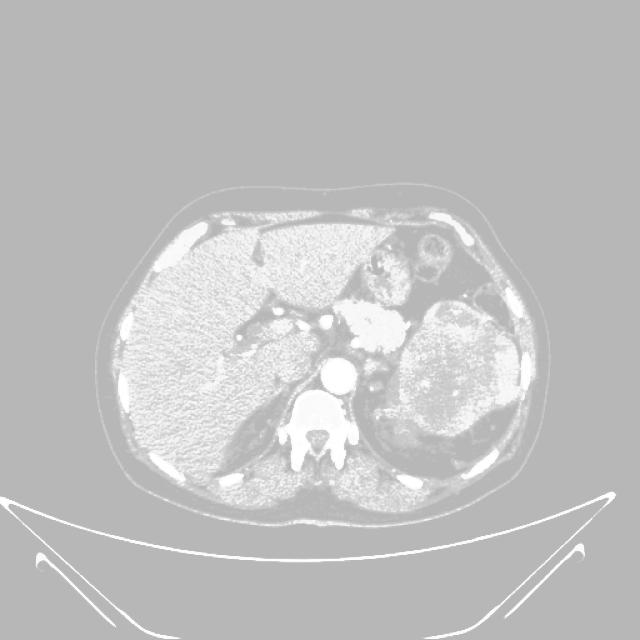TUMOR: (196, 225, 567, 471)
